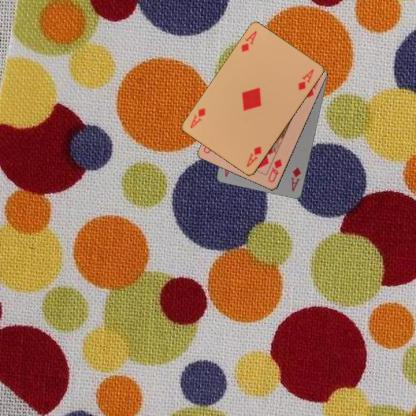Ad: (239, 28, 258, 54), (244, 144, 263, 169), (288, 165, 302, 193)
Qd: (265, 157, 284, 184)
